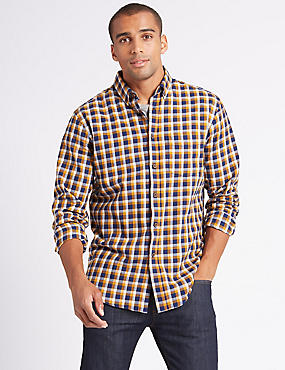Shirt: (46, 69, 252, 319)
